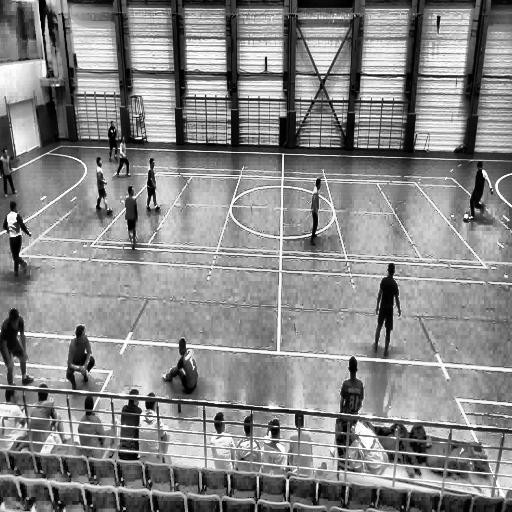ball: (463, 212, 469, 223)
player: (373, 261, 401, 356), (0, 306, 31, 390), (3, 200, 33, 282), (337, 356, 364, 430), (468, 158, 491, 220), (95, 155, 113, 216), (0, 146, 18, 201), (124, 184, 138, 251), (145, 156, 161, 214), (310, 178, 321, 248), (116, 134, 132, 178), (108, 120, 118, 164)
